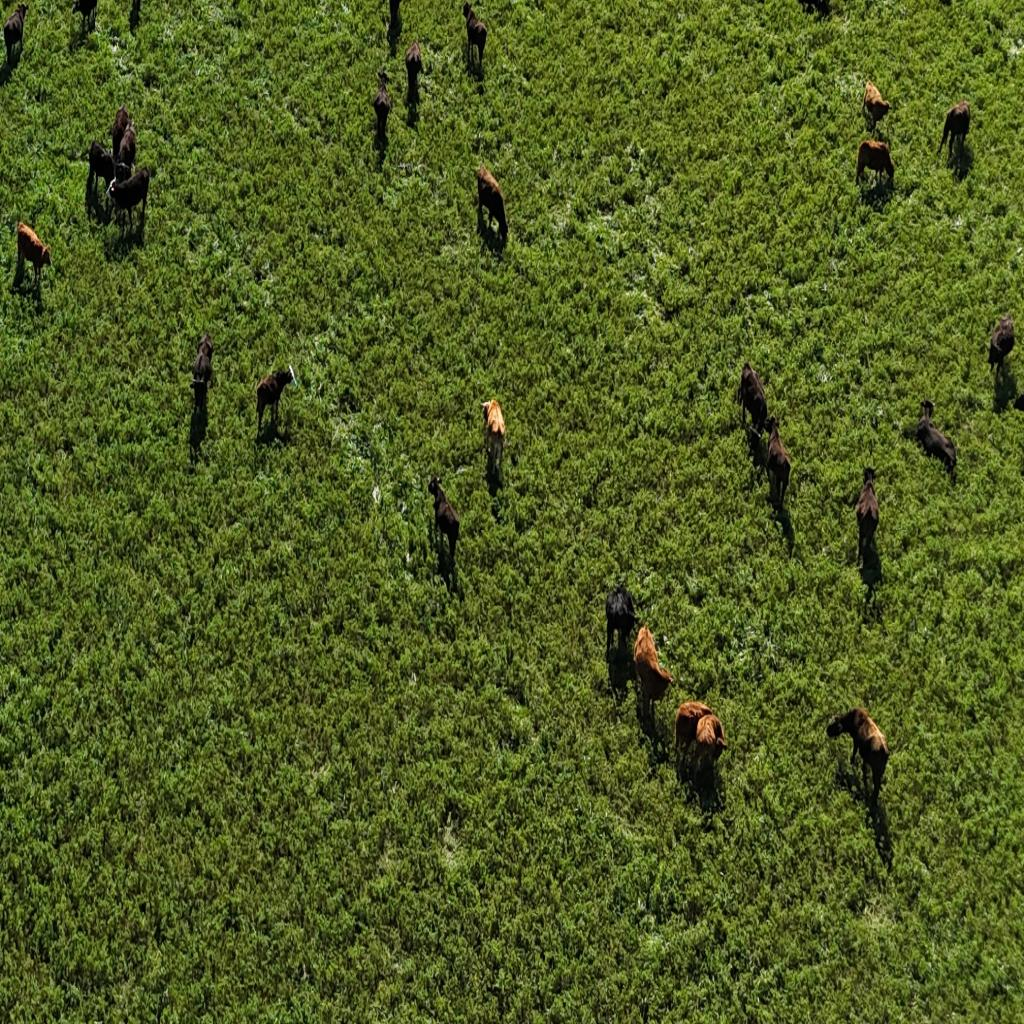cow: (829, 703, 896, 845), (670, 696, 724, 788), (634, 624, 673, 735), (915, 400, 957, 480), (254, 362, 295, 440), (428, 476, 460, 568), (107, 167, 150, 235), (189, 332, 215, 436), (605, 584, 638, 662), (477, 162, 508, 244), (856, 469, 882, 566), (736, 362, 768, 438), (766, 417, 791, 511), (16, 220, 52, 284), (87, 140, 118, 208), (481, 397, 506, 479), (461, 0, 487, 77), (856, 139, 896, 186), (940, 102, 972, 158), (988, 311, 1014, 378), (863, 78, 891, 132), (115, 123, 138, 188), (3, 4, 26, 67), (372, 70, 392, 140), (404, 40, 422, 104), (71, 0, 98, 36), (388, 0, 403, 35)
